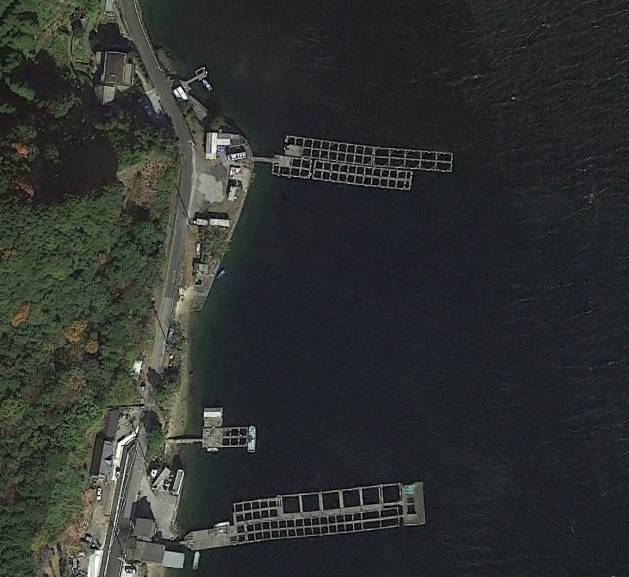house: (93, 46, 139, 87), (87, 433, 118, 483), (126, 539, 169, 565), (126, 512, 159, 539), (203, 130, 231, 161), (91, 81, 121, 107), (190, 214, 231, 231), (191, 259, 210, 280)
platform: (399, 474, 429, 530), (178, 525, 237, 549), (200, 401, 224, 457)
ship: (246, 422, 259, 452), (211, 519, 232, 529), (190, 550, 201, 569), (200, 77, 214, 91)
